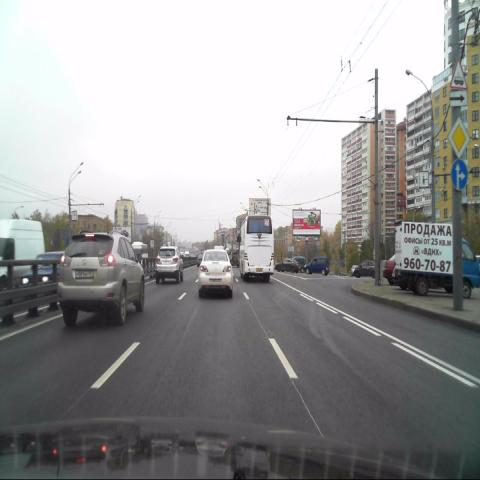1_5: (450, 56, 468, 89)
8_3_1: (450, 90, 468, 106)
